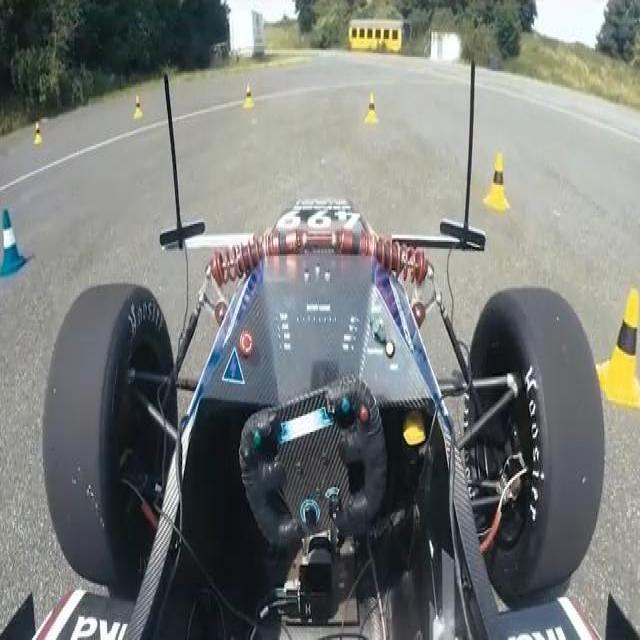blue_cone: (0, 208, 27, 277)
yellow_cone: (483, 151, 512, 211), (364, 91, 379, 124), (243, 82, 256, 110), (134, 94, 143, 120), (34, 121, 43, 145)
